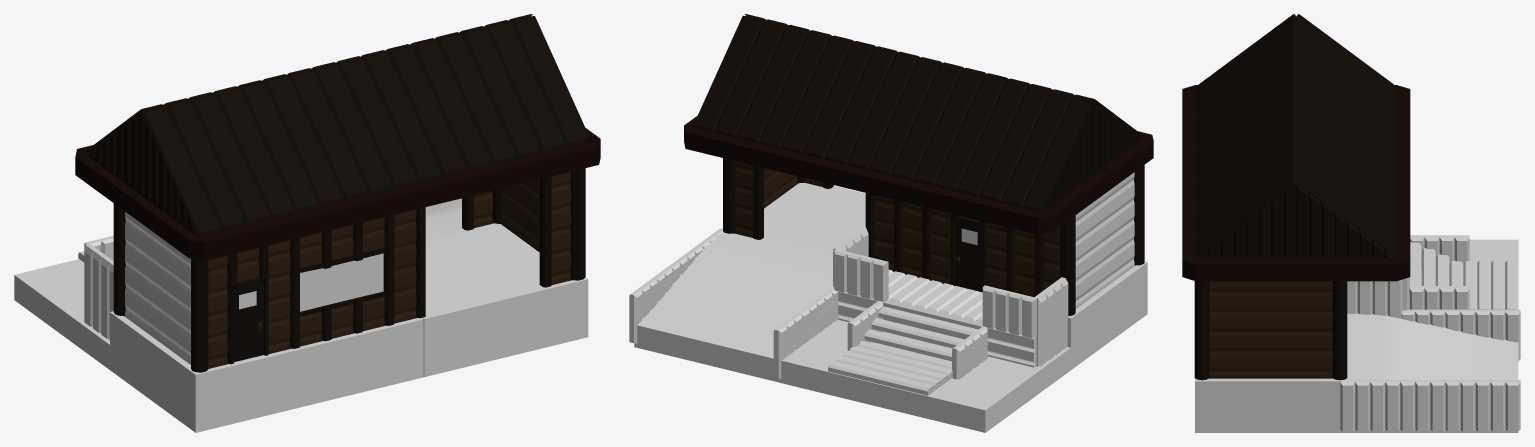
Rendered from House_Standin_3.fbx.
3 views of the same model, side by side, from view 1: azimuth 30°, elevation 25°; view 2: azimuth 150°, elevation 25°; view 3: azimuth 270°, elevation 25° (orthographic). The views are drawn at different scales.
Visible parts, largest first — view 1: pCube142, pCube136, pCylinder8, pCube144, pasted__pCube119, pCube72, pCube135, polySurface2, pasted__pCube118; view 2: pCube142, pCube136, pCube135, pasted__pCube118, pasted__pCube119, pCube144, polySurface7, pCylinder8; view 3: pCube142, pCube135, pCube136, pCube144.
Part boxes in pixels (x1=…): pCube142: x1=75, y1=14, x2=600, y2=260; pCube136: x1=14, y1=199, x2=588, y2=432; pCylinder8: x1=191, y1=207, x2=425, y2=372; pCube144: x1=462, y1=168, x2=585, y2=287; pasted__pCube119: x1=124, y1=211, x2=190, y2=364; pCube72: x1=300, y1=253, x2=383, y2=311; pCube135: x1=78, y1=198, x2=461, y2=340; polySurface2: x1=234, y1=282, x2=263, y2=362; pasted__pCube118: x1=113, y1=203, x2=125, y2=315; pCube142: x1=684, y1=14, x2=1153, y2=234; pCube136: x1=634, y1=182, x2=1147, y2=432; pCube135: x1=629, y1=226, x2=1068, y2=395; pasted__pCube118: x1=865, y1=193, x2=1075, y2=315; pasted__pCube119: x1=1075, y1=172, x2=1135, y2=308; pCube144: x1=723, y1=158, x2=833, y2=239; polySurface7: x1=955, y1=221, x2=981, y2=291; pCylinder8: x1=1134, y1=165, x2=1144, y2=265; pCube142: x1=1182, y1=14, x2=1410, y2=281; pCube135: x1=1340, y1=235, x2=1520, y2=431; pCube136: x1=1195, y1=239, x2=1518, y2=432; pCube144: x1=1194, y1=281, x2=1347, y2=380.
Bounding box in the file's own units: 18.35 × 11.94 × 14.63.
